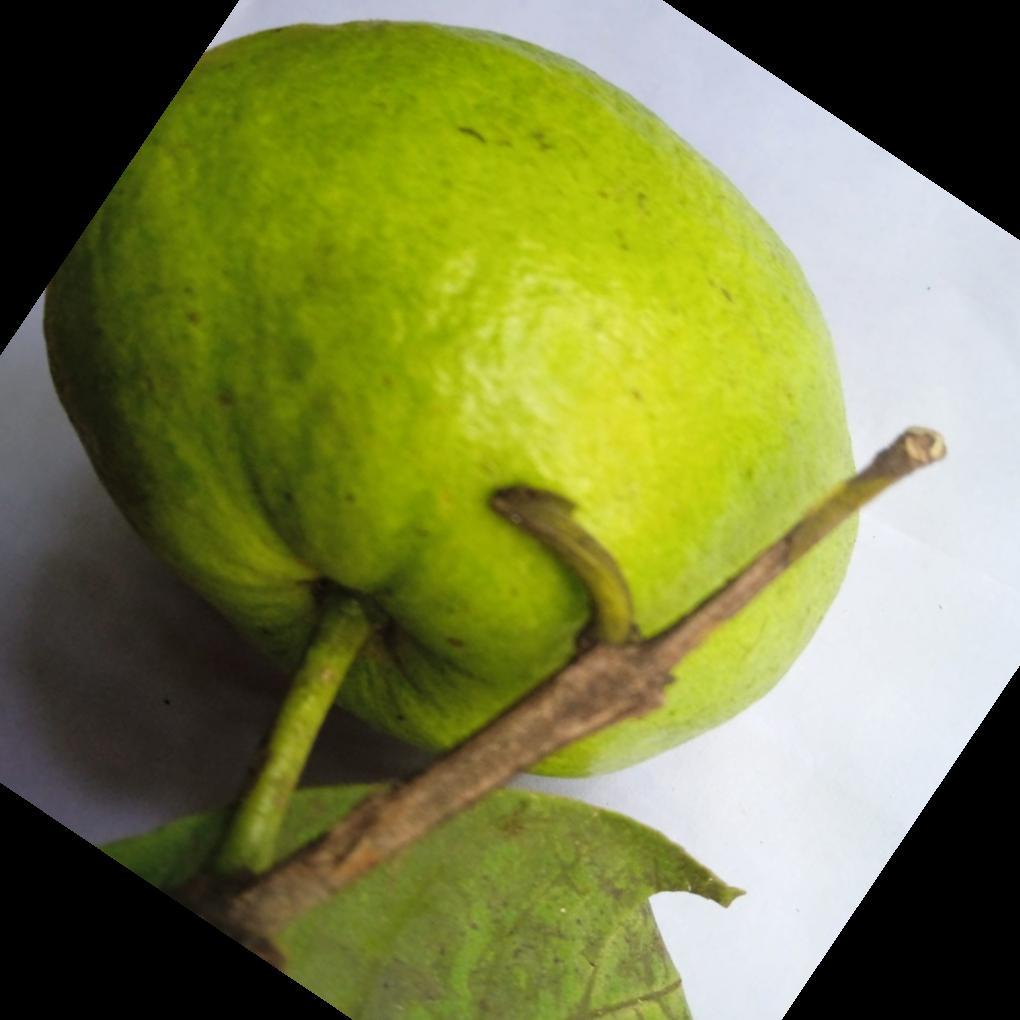FreshGuava: (41, 21, 860, 1020)
